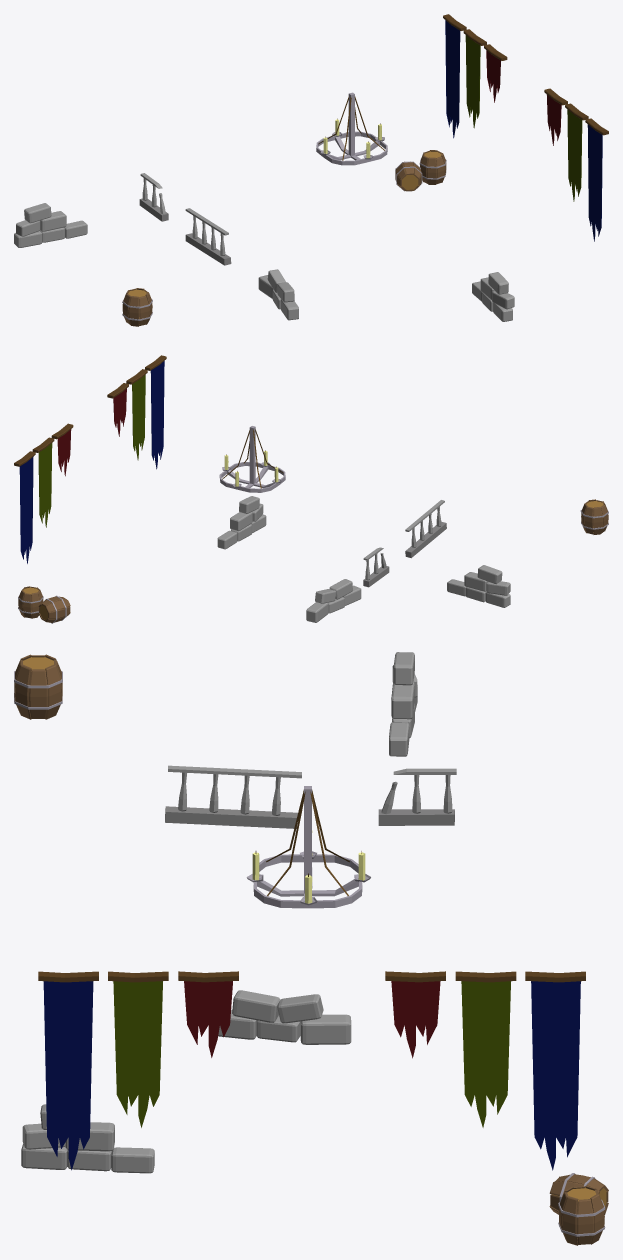
File: Map6_decor.fbx
3 views of the same model, one above another, from view 1: azimuth 30°, elevation 25°; view 2: azimuth 150°, elevation 25°; view 3: azimuth 270°, elevation 25° (orthographic). The views are drawn at different scales.
Parts seen in each view (by area): view 1: Map 6 decor; view 2: Map 6 decor; view 3: Map 6 decor.
Part boxes in pixels (x1,y1,x2,y2): Map 6 decor: [14, 14, 608, 326]; Map 6 decor: [14, 355, 608, 623]; Map 6 decor: [14, 652, 608, 1245].
Size of the model in its own units: 4798 by 1752 by 2976.
